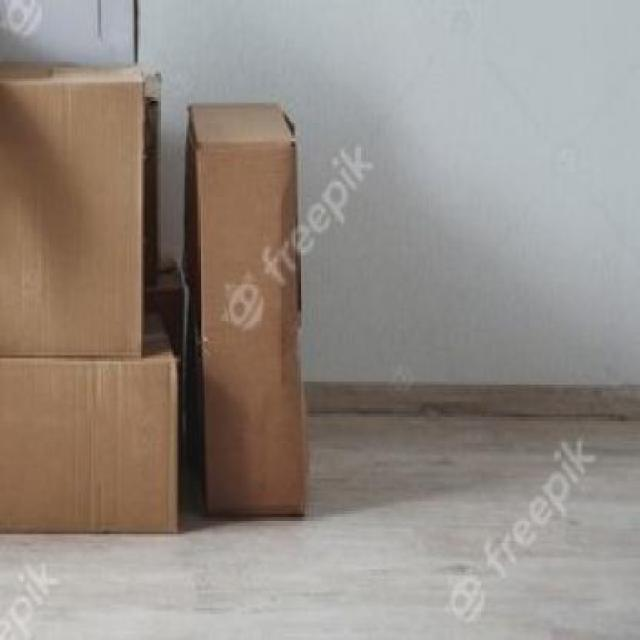box: (183, 101, 311, 516), (0, 65, 162, 357), (0, 311, 198, 543)
